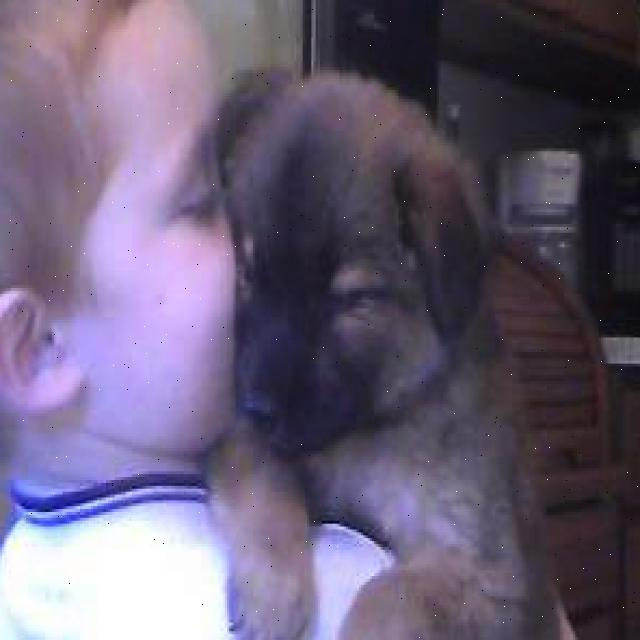Dog: (175, 63, 494, 491)
